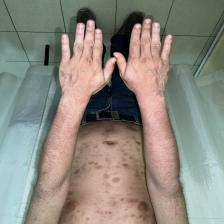DA: (42, 122, 70, 176), (145, 133, 173, 184)
